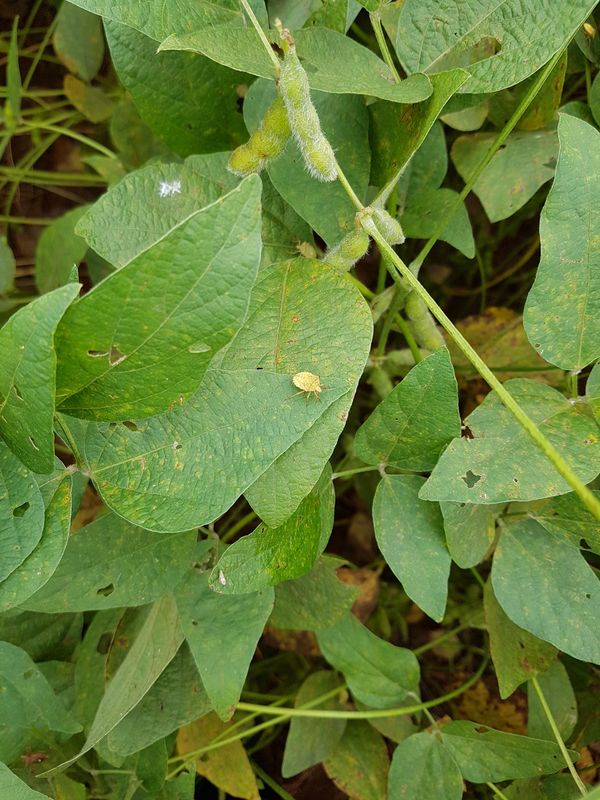Euschistus_heros_adulto: (13, 744, 55, 777)
Euschistus_heros_ninfa: (285, 367, 335, 407), (285, 238, 321, 267)
